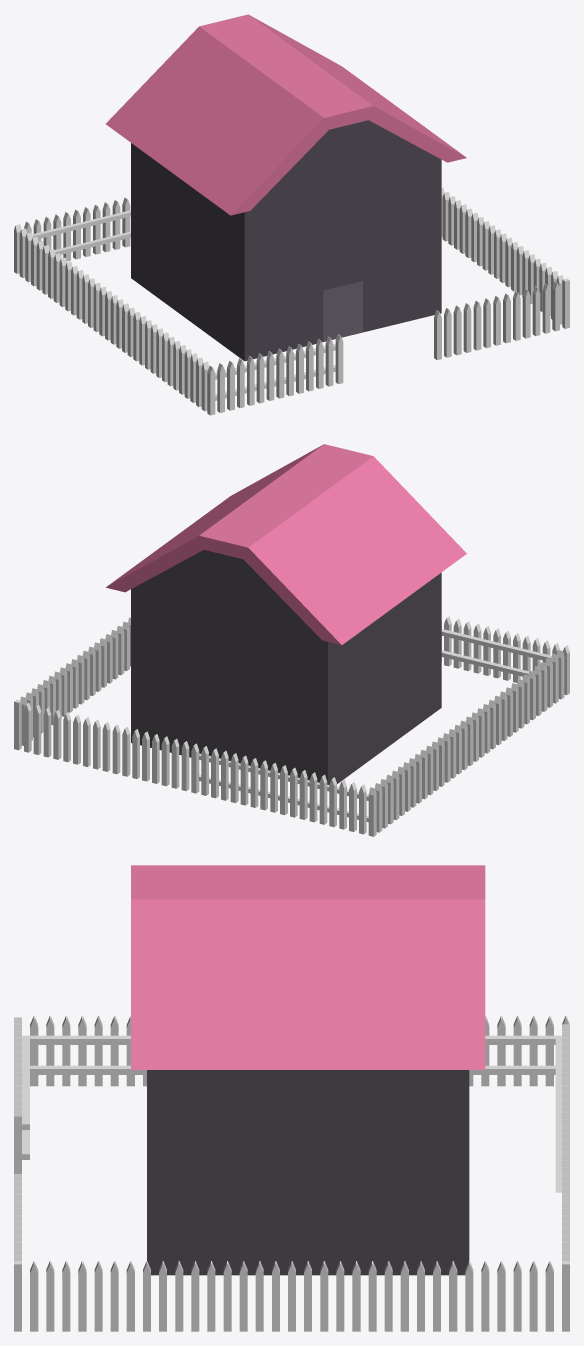
The model's file is HouseNew6.fbx.
The picture shows the model from 3 angles, top to bottom: view 1: azimuth 30°, elevation 25°; view 2: azimuth 150°, elevation 25°; view 3: azimuth 270°, elevation 25°; orthographic projection. The views are drawn at different scales.
Visible parts, largest first — view 1: House, Fence; view 2: House, Fence; view 3: House, Fence.
Boxes of the visible parts, x1,y1,x2,y2 form: House: (106, 14, 466, 361); Fence: (14, 187, 569, 415); House: (106, 444, 466, 784); Fence: (14, 616, 569, 836); House: (131, 865, 485, 1275); Fence: (14, 1016, 569, 1331).
Size of the model in its own units: 1825 by 1113 by 1725.
